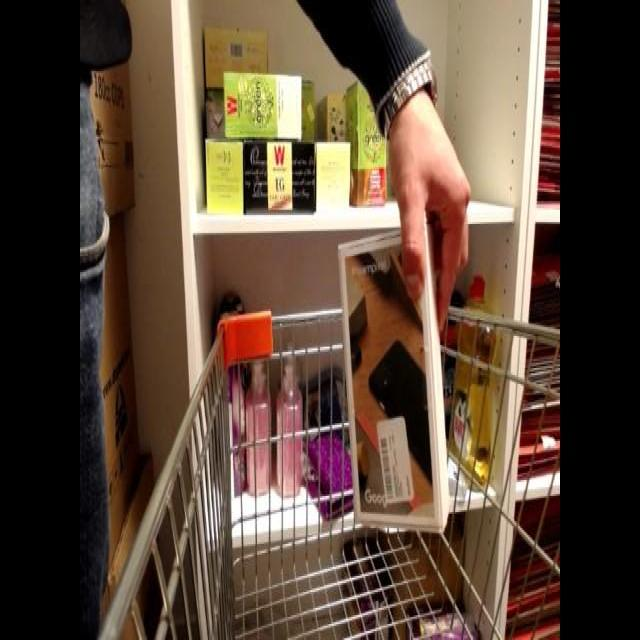Pixel 4: (336, 203, 453, 537)
